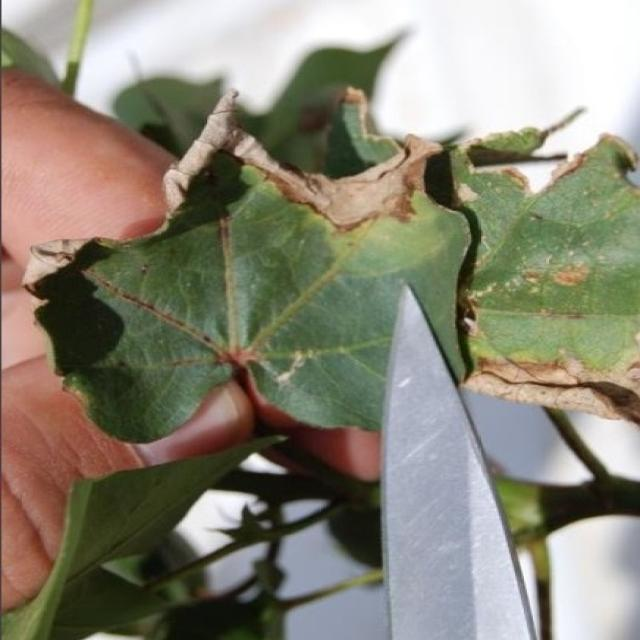Fusarium Wilt: (132, 76, 626, 370)
